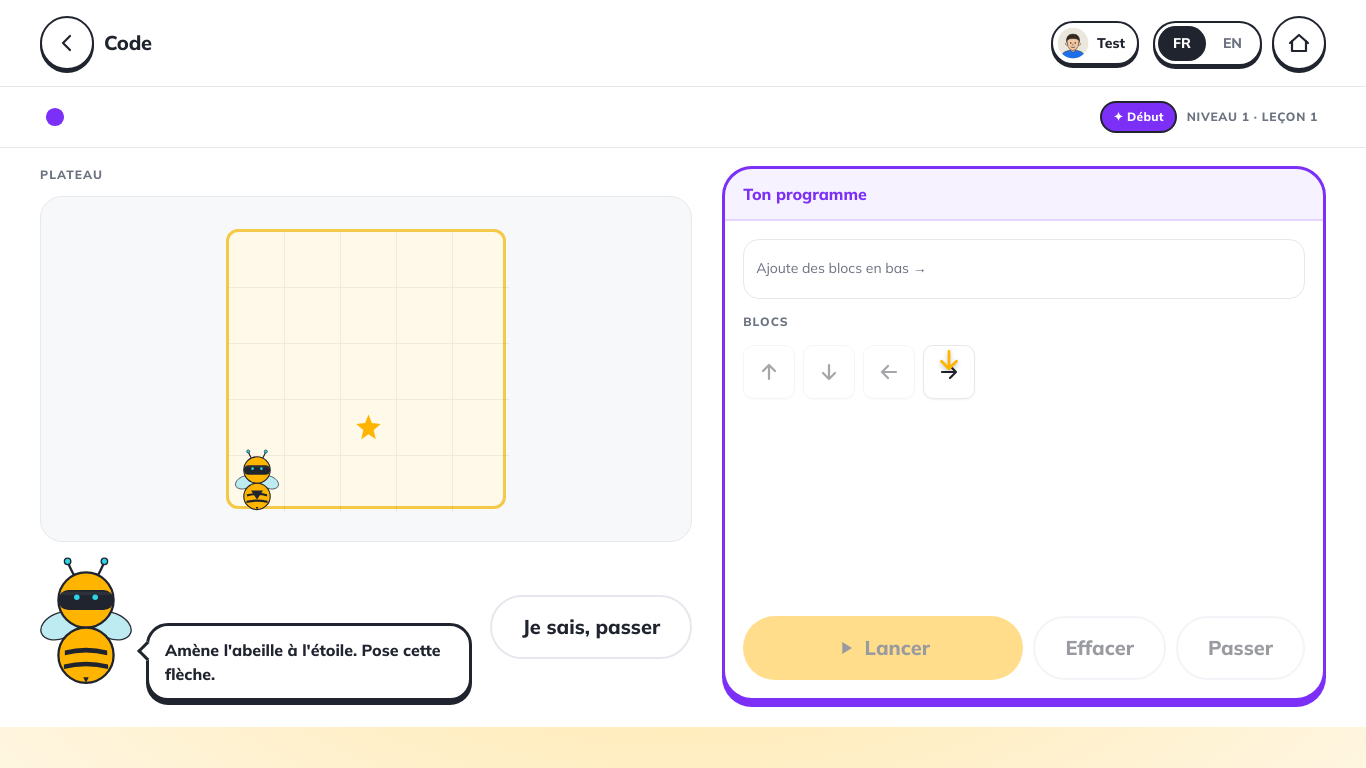
Test: CodeTurtleSession guided onboarding (maze first exercise) › "Passer" ends the guide once and marks it seen (under StrictMode)
Expected: the button named "right" is shown, x1=923 y1=345 x2=975 y2=399
What coordinates should you click on to do the following:
click the button "Je sais, passer"
I would click on:
 (591, 627)
Its box is x1=490 y1=595 x2=692 y2=659.
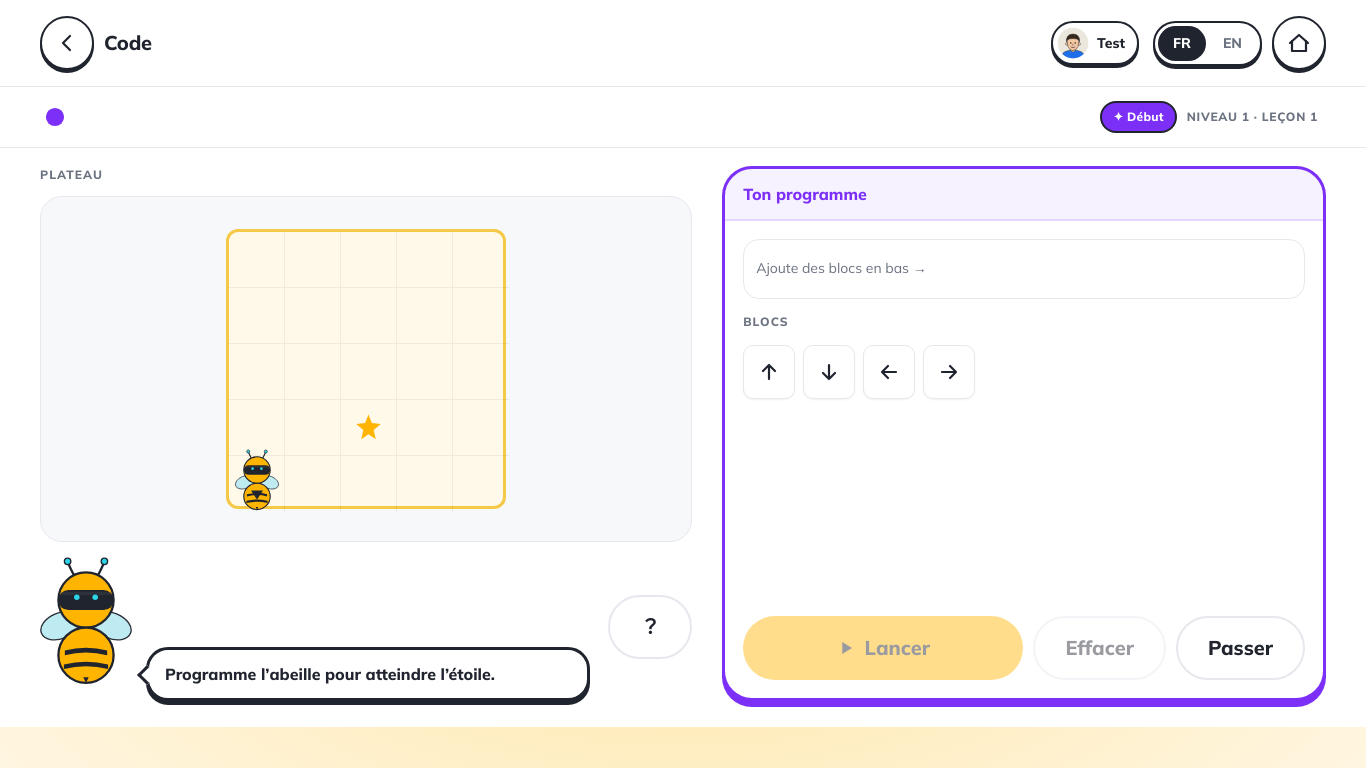
Expected: the text with class "bee-coach-text" no longer shows "Pose cette flèche"
